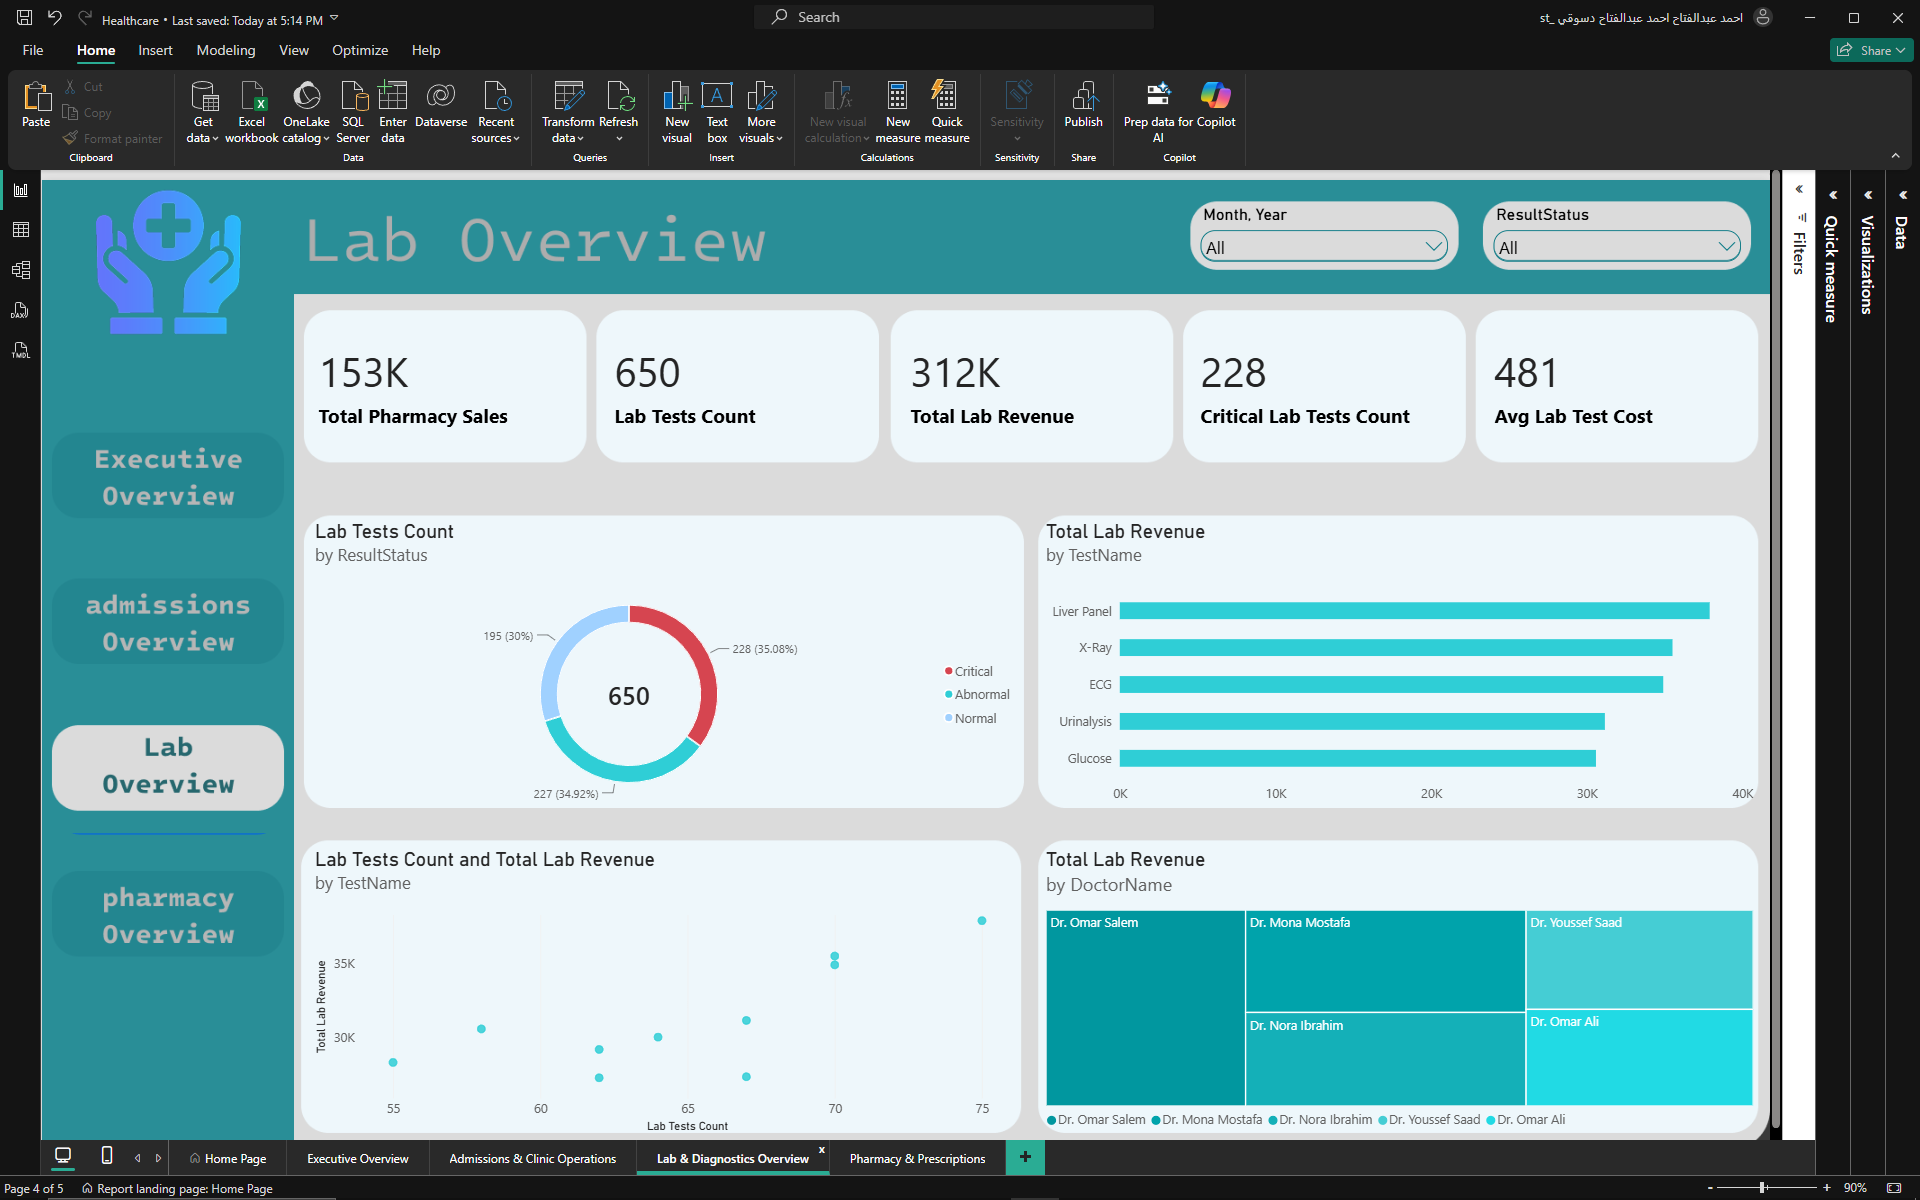

The page's visual inventory and layout, read from the dashboard file:
{"tool":"powerbi","page":{"name":"Lab & Diagnostics Overview","canvas":[1920,1080],"ordinal":2},"visuals":[{"type":"cardVisual","fields":{"Data":["Dax_measures.Total Lab Revenue"]},"box":[291.5,144.4,316.7,168.3],"z":0},{"type":"cardVisual","fields":{"Data":["Dax_measures.Lab Tests Count"]},"box":[620.1,144.4,308.7,168.3],"z":1000},{"type":"cardVisual","fields":{"Data":["Dax_measures.Abnormal Lab Tests Count"]},"box":[948.7,144.4,306.1,168.3],"z":2000},{"type":"cardVisual","fields":{"Data":["Dax_measures.Critical Lab Tests Count"]},"box":[1270.7,144.4,308.7,168.3],"z":3000},{"type":"cardVisual","fields":{"Data":["Dax_measures.Avg Lab Test Cost"]},"box":[1598,144.4,303.4,168.3],"z":4000},{"type":"donutChart","title":"Lab Tests Count by Result Status","fields":{"Category":["fact_labtest.ResultStatus"],"Y":["Dax_measures.Lab Tests Count"]},"box":[303.4,377.6,781.8,319.3],"z":5000},{"type":"clusteredBarChart","title":"Total Lab Revenue by Test Name","fields":{"Category":["fact_labtest.TestName"],"Y":["Dax_measures.Total Lab Revenue"]},"box":[1115.7,377.6,785.8,319.3],"z":6000},{"type":"scatterChart","fields":{"Category":["fact_labtest.TestName"],"X":["Dax_measures.Lab Tests Count"],"Y":["Dax_measures.Total Lab Revenue"]},"box":[303.4,742,781.8,316.7],"z":7000},{"type":"treemap","title":"Total Lab Revenue by Doctor Name","fields":{"Group":["dim_doctors.DoctorName"],"Values":["Dax_measures.Total Lab Revenue"]},"box":[1115.7,742,785.8,316.7],"z":8000},{"type":"pageNavigator","box":[10.1,247,262.9,645.8],"z":9000},{"type":"slicer","fields":{"Values":["DimDate.Month","DimDate.Year"]},"box":[1282.6,27.8,284.7,85.4],"z":10000},{"type":"slicer","fields":{"Values":["fact_labtest.ResultStatus"]},"box":[1607.8,27.8,284.7,85.4],"z":11000},{"type":"image","box":[491.1,144.5,105.9,128.8],"z":11001},{"type":"image","box":[814.9,132.4,113.2,152.9],"z":11002},{"type":"image","box":[1452.9,132.4,136,128.8],"z":11003},{"type":"image","box":[1137.6,139.6,116.8,114.4],"z":11004},{"type":"image","box":[1790,144.5,130,133.6],"z":11005}]}

Visuals, with their boxes on the page's 1920x1080 design canvas (x1, y1, x2, y2). These are canvas units, not pixel positions in the 1920x1200 screenshot, which may show the page scaled, cropped or inside an application window:
cardVisual - Dax_measures.Total Lab Revenue: 292 144 608 313
cardVisual - Dax_measures.Lab Tests Count: 620 144 929 313
cardVisual - Dax_measures.Abnormal Lab Tests Count: 949 144 1255 313
cardVisual - Dax_measures.Critical Lab Tests Count: 1271 144 1579 313
cardVisual - Dax_measures.Avg Lab Test Cost: 1598 144 1901 313
"Lab Tests Count by Result Status" donutChart: 303 378 1085 697
"Total Lab Revenue by Test Name" clusteredBarChart: 1116 378 1902 697
scatterChart - fact_labtest.TestName x Dax_measures.Lab Tests Count: 303 742 1085 1059
"Total Lab Revenue by Doctor Name" treemap: 1116 742 1902 1059
pageNavigator: 10 247 273 893
slicer - DimDate.Month x DimDate.Year: 1283 28 1567 113
slicer - fact_labtest.ResultStatus: 1608 28 1892 113
image: 491 144 597 273
image: 815 132 928 285
image: 1453 132 1589 261
image: 1138 140 1254 254
image: 1790 144 1920 278
